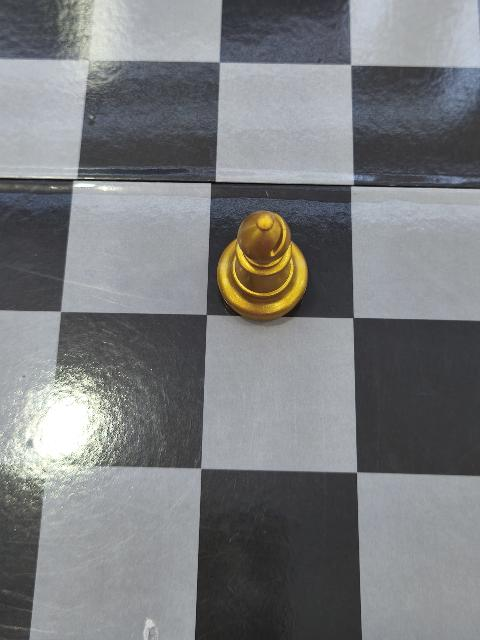black_bishop: (216, 209, 310, 324)
